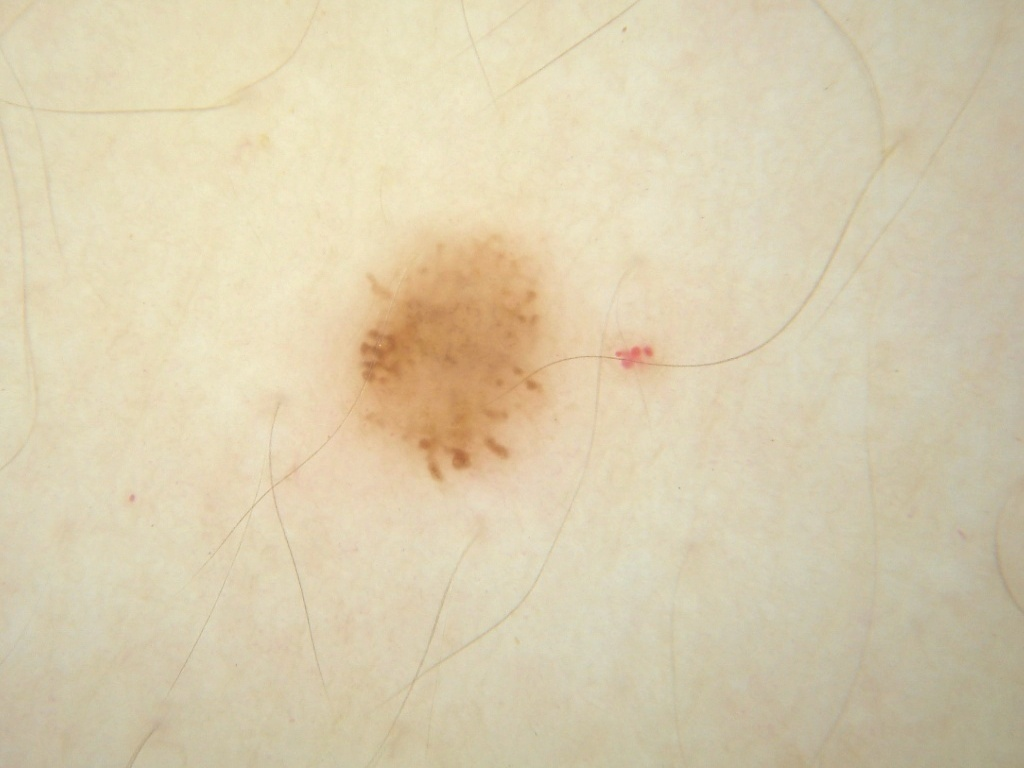Detected Lesion: (341, 224, 672, 483)
